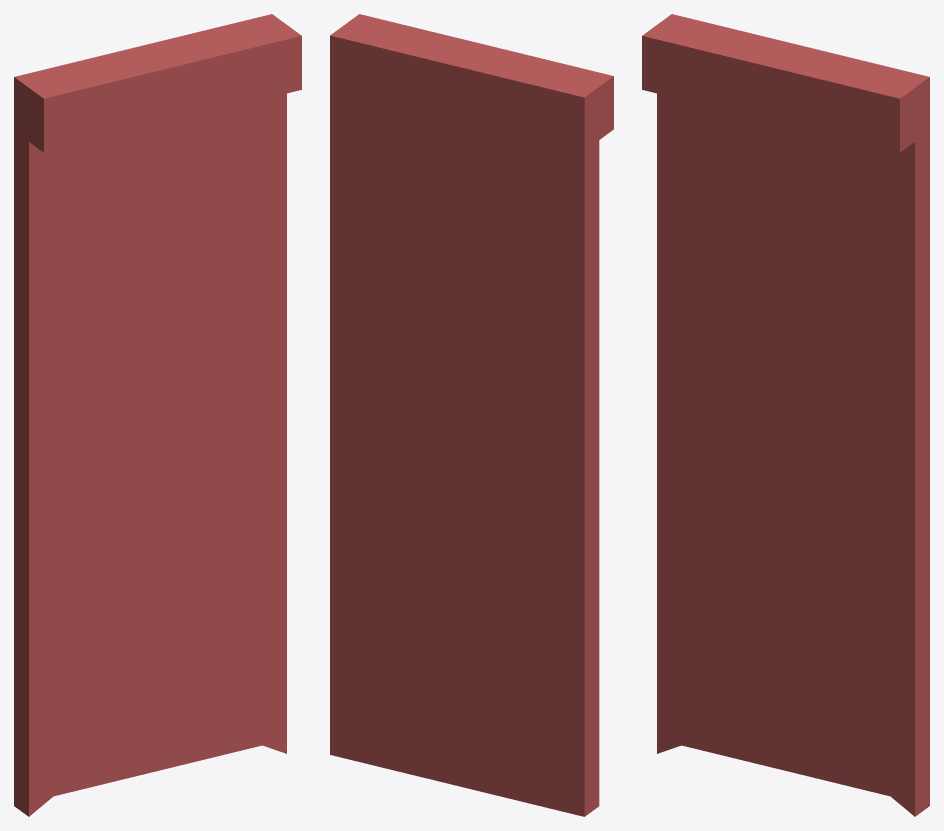
File: banner_01.glb
The picture shows the model from 3 angles, left to right: view 1: azimuth 30°, elevation 25°; view 2: azimuth 150°, elevation 25°; view 3: azimuth 330°, elevation 25°; orthographic projection.
Visible parts, largest first — view 1: Mesh1 Banner Model; view 2: Mesh1 Banner Model; view 3: Mesh1 Banner Model.
Part boxes in pixels (left/top/right/bottom): Mesh1 Banner Model: left=14, top=14, right=301, bottom=816; Mesh1 Banner Model: left=330, top=14, right=613, bottom=816; Mesh1 Banner Model: left=642, top=14, right=929, bottom=816.
Bounding box in the file's own units: 1 × 2.7 × 0.2.
